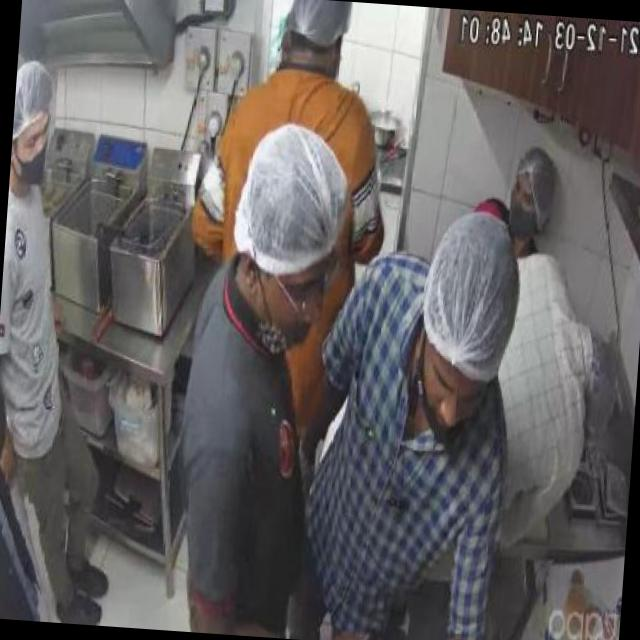hairnet: (232, 119, 352, 260), (426, 208, 524, 370), (520, 144, 559, 222), (12, 61, 54, 130), (286, 0, 352, 43)
